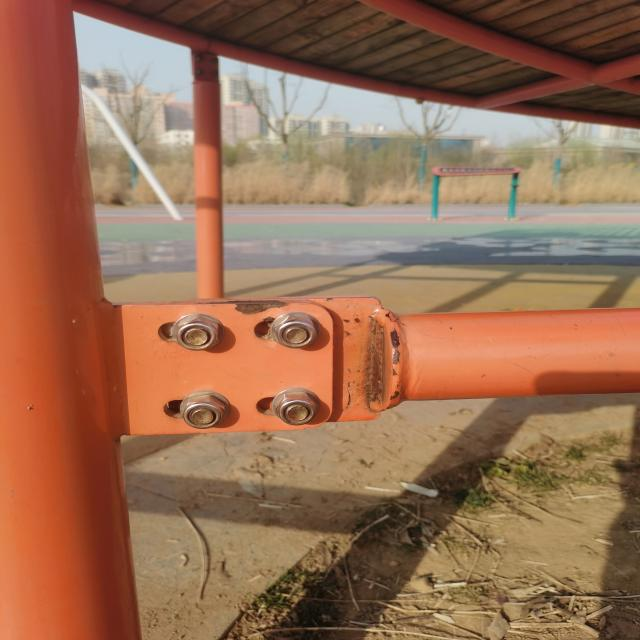bolt nut: (272, 312, 320, 350), (272, 390, 321, 427), (174, 316, 222, 352), (180, 394, 227, 430)
